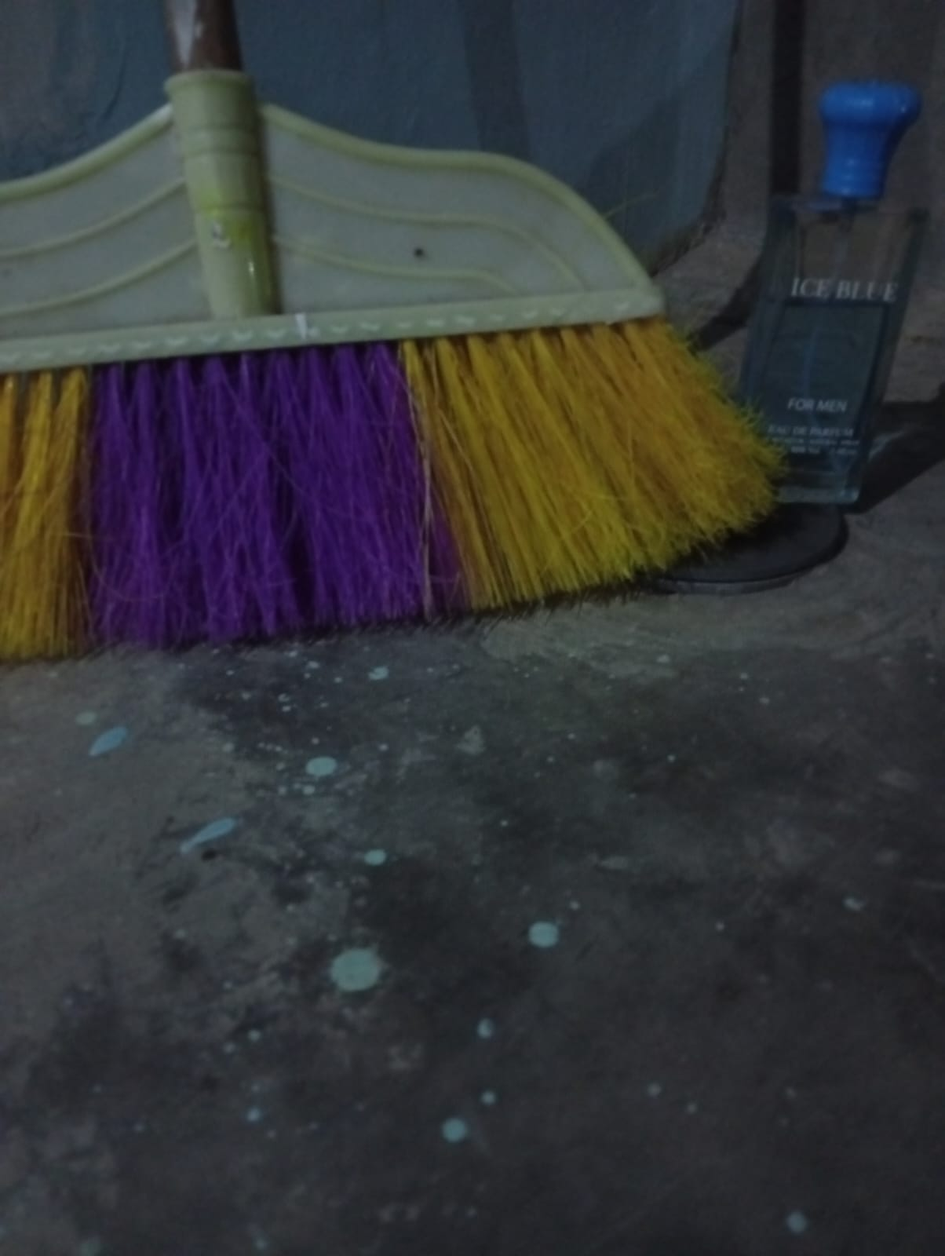Parfum: (739, 63, 940, 529)
